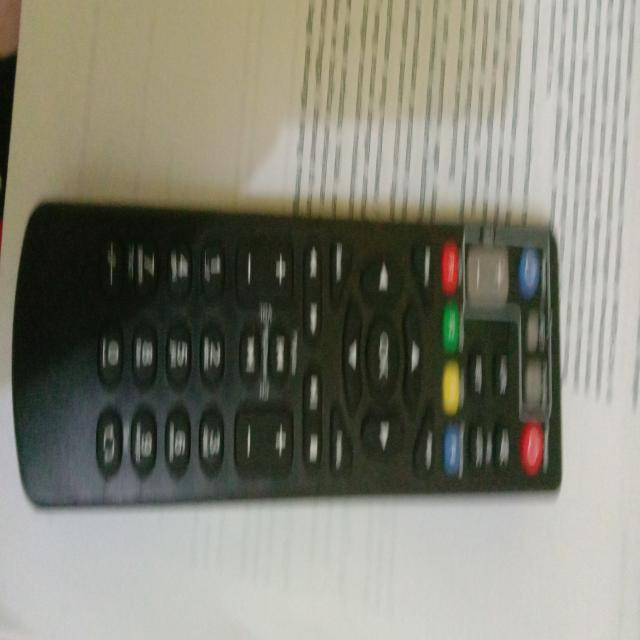remote: (5, 216, 564, 507)
